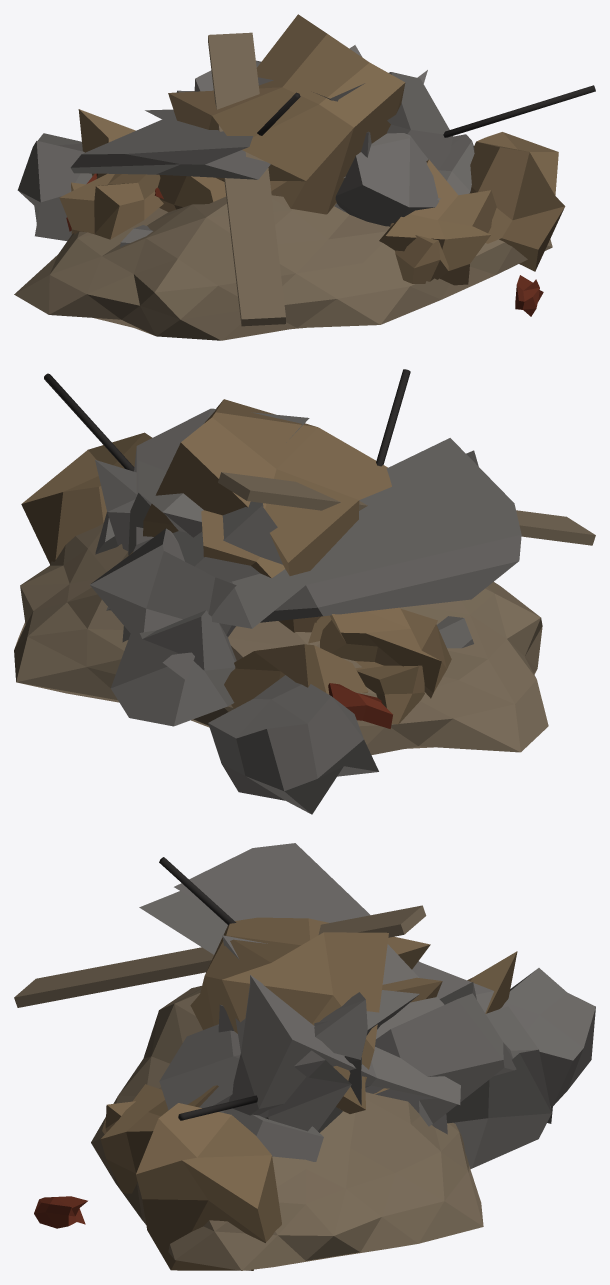
Rendered from cover_rubble_7.glb.
3 renders of one model, top to bottom at view 1: azimuth 30°, elevation 25°; view 2: azimuth 150°, elevation 25°; view 3: azimuth 270°, elevation 25°, orthographic. The views are drawn at different scales.
Parts seen in each view (by area): view 1: mound, lump_30, plank, lump_10, slab, lump_14, lump_9, lump_25, lump_8, lump_1, lump_5, lump_0 (+4 smaller); view 2: mound, slab, lump_30, lump_8, lump_17, lump_12, lump_25, lump_1, lump_10, lump_21, plank, lump_13 (+7 smaller); view 3: mound, lump_30, lump_10, lump_1, slab, lump_12, lump_17, lump_14, plank, lump_8, lump_9, lump_13 (+7 smaller).
Part boxes in pixels (box(x1,y1,x2,y2)): mound: box(14, 195, 552, 340); lump_30: box(168, 14, 405, 214); plank: box(208, 32, 285, 326); lump_10: box(470, 132, 565, 271); slab: box(70, 109, 270, 179); lump_14: box(335, 70, 439, 226); lump_9: box(379, 159, 496, 285); lump_25: box(59, 173, 163, 239); lump_8: box(17, 133, 92, 240); lump_1: box(258, 72, 453, 169); lump_5: box(158, 175, 225, 211); lump_0: box(390, 223, 448, 283); mound: box(14, 523, 548, 755); slab: box(211, 438, 521, 628); lump_30: box(143, 399, 391, 575); lump_8: box(208, 675, 378, 814); lump_17: box(110, 610, 236, 726); lump_12: box(90, 528, 236, 680); lump_25: box(320, 607, 451, 698); lump_1: box(106, 408, 309, 642); lump_10: box(21, 432, 152, 564); lump_21: box(224, 644, 368, 709); plank: box(218, 472, 595, 545); lump_13: box(128, 460, 203, 555); mound: box(91, 986, 483, 1270); lump_30: box(190, 917, 430, 1082); lump_10: box(136, 1103, 281, 1270); lump_1: box(222, 935, 460, 1134); slab: box(139, 843, 493, 1056); lump_12: box(375, 982, 516, 1126); lump_17: box(446, 1006, 551, 1169); lump_14: box(159, 1024, 351, 1132); plank: box(14, 905, 426, 1007); lump_8: box(500, 968, 595, 1123); lump_9: box(100, 1084, 218, 1193); lump_13: box(314, 990, 419, 1105).
Bounding box in the file's own units: 2.33 × 1.09 × 2.04.
